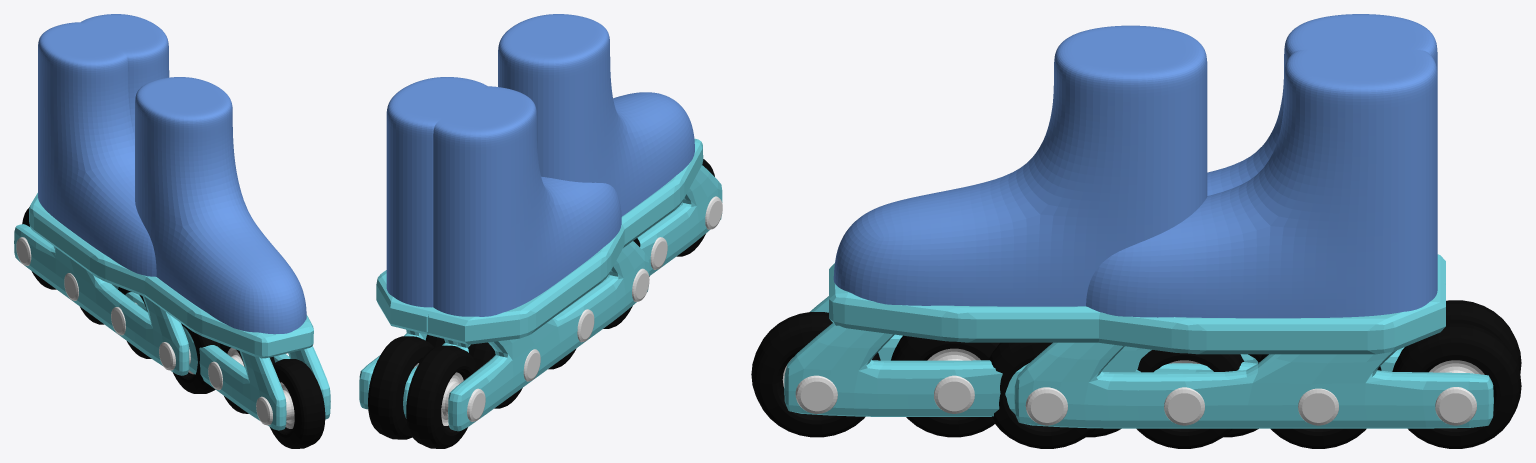
The model's file is left_boot.fbx.
The picture shows the model from 3 angles, left to right: view 1: azimuth 30°, elevation 25°; view 2: azimuth 150°, elevation 25°; view 3: azimuth 270°, elevation 25°; orthographic projection. The views are drawn at different scales.
Visible parts, largest first — view 1: right_boot_ani, Boot.002, wheel_hub.002, boot_hub.002, left_boot_ani, Wheels.008, Wheels.003; view 2: right_boot_ani, Boot.002, left_boot_ani, wheel_hub.002, boot_hub.002, Wheels.008, Wheels.003; view 3: left_boot_ani, Boot.002, wheel_hub.002, boot_hub.002, right_boot_ani, Wheels.008, Wheels.003.
Part boxes in pixels (x1,y1,x2,y2): right_boot_ani: [14, 22, 225, 393]; Boot.002: [135, 77, 306, 334]; wheel_hub.002: [112, 284, 330, 430]; boot_hub.002: [144, 276, 313, 358]; left_boot_ani: [81, 14, 169, 136]; Wheels.008: [256, 359, 330, 448]; Wheels.003: [208, 343, 274, 413]; right_boot_ani: [403, 86, 649, 448]; Boot.002: [498, 14, 694, 216]; left_boot_ani: [359, 77, 487, 439]; wheel_hub.002: [637, 165, 722, 275]; boot_hub.002: [621, 138, 703, 247]; Wheels.008: [676, 159, 722, 256]; Wheels.003: [649, 237, 667, 276]; left_boot_ani: [988, 43, 1521, 448]; Boot.002: [833, 25, 1207, 306]; wheel_hub.002: [784, 296, 1257, 416]; boot_hub.002: [829, 263, 1099, 342]; right_boot_ani: [1207, 14, 1521, 373]; Wheels.008: [751, 312, 880, 437]; Wheels.003: [891, 335, 999, 437].
Size of the model in its own units: 56.27 by 108 by 195.
